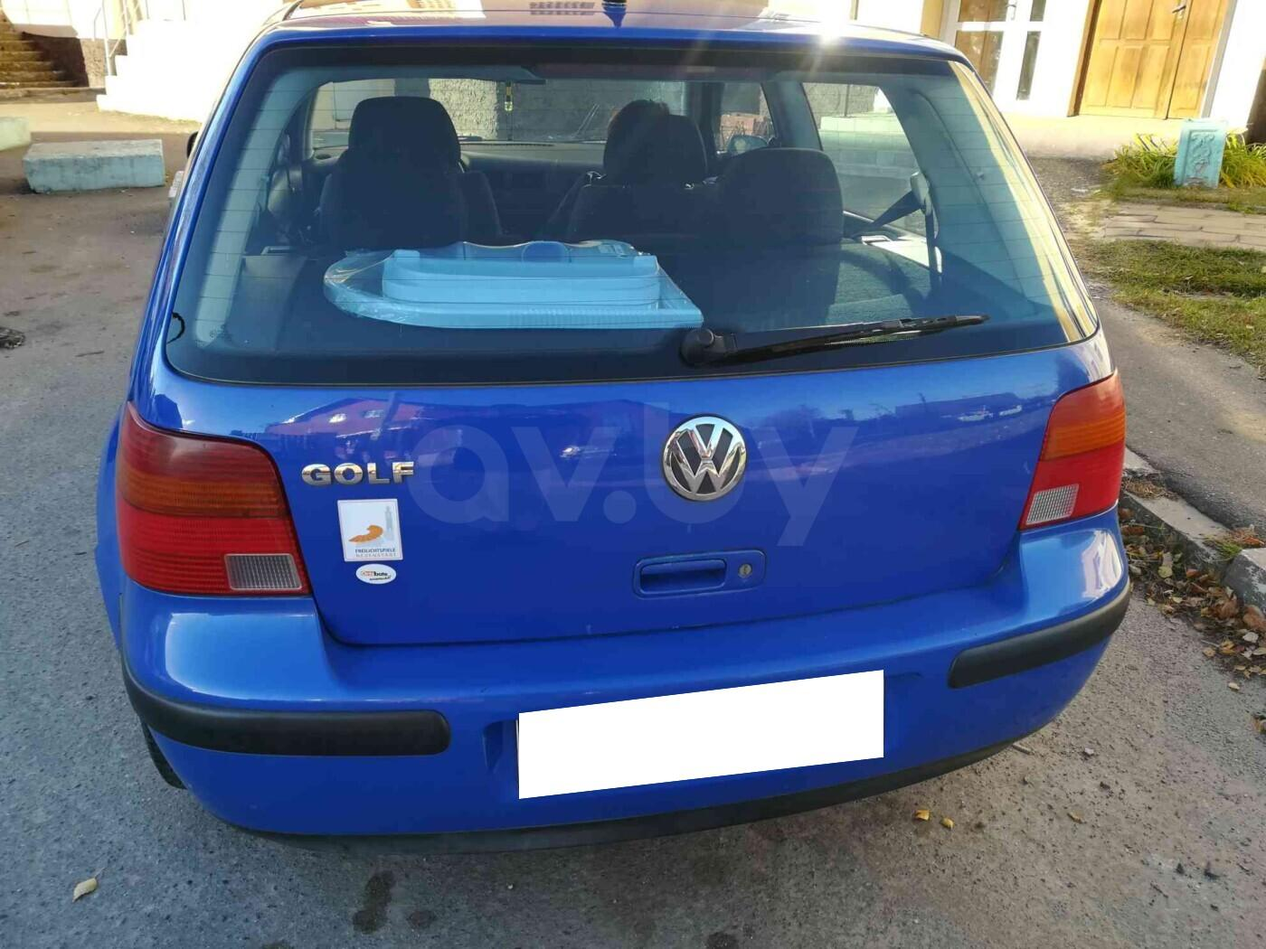Golf_1997-2006: (54, 0, 1144, 834)
